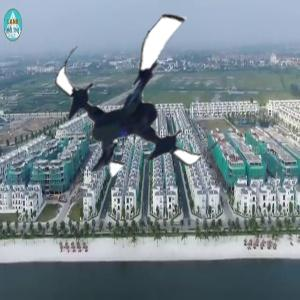drone: (50, 8, 235, 193)
